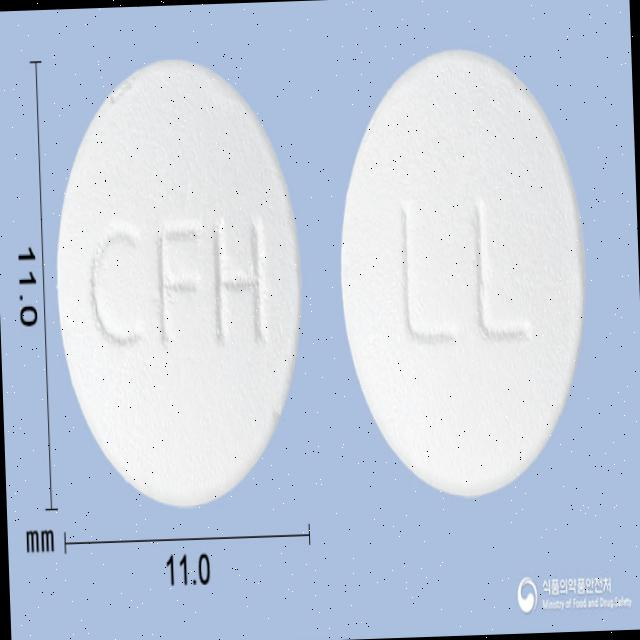Cyfloc: (47, 52, 310, 514), (331, 40, 594, 502)
